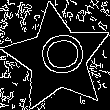O_W: (29, 33, 86, 83)
